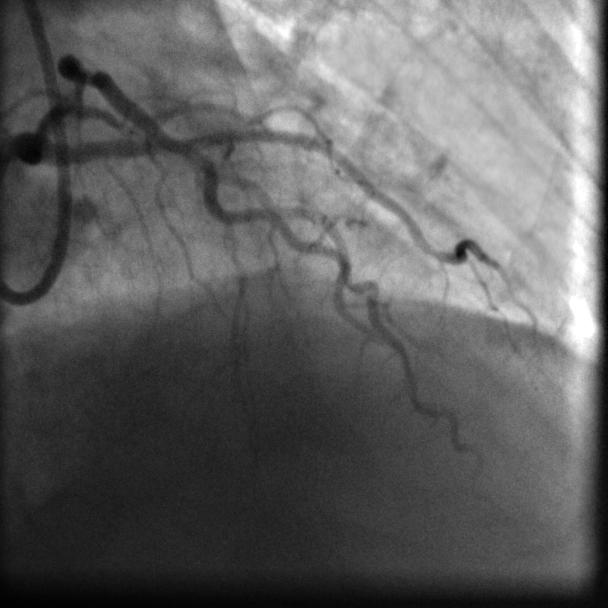Stenosis: (70, 57, 105, 96)
